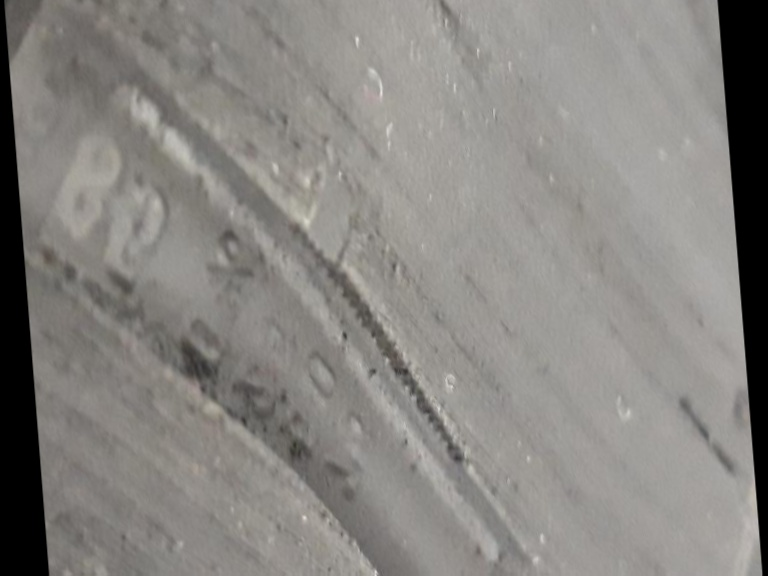temoin:0: (281, 170, 376, 305)
